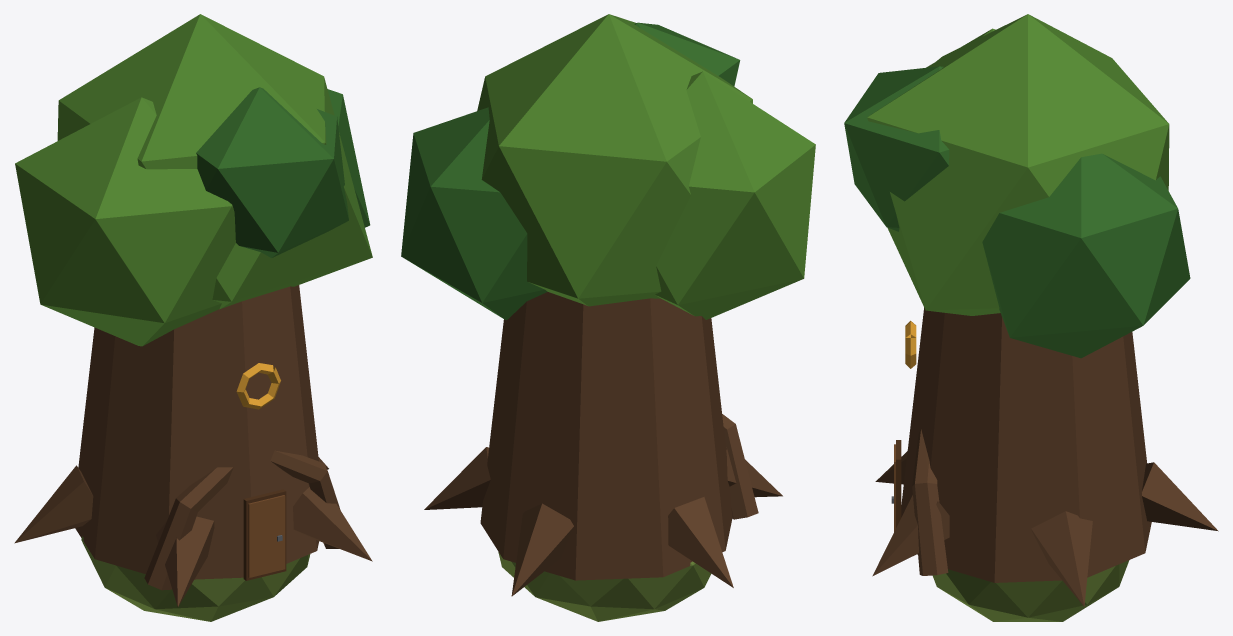
File: treekin_hall_broken.glb
The picture shows the model from 3 angles, left to right: view 1: azimuth 30°, elevation 25°; view 2: azimuth 150°, elevation 25°; view 3: azimuth 270°, elevation 25°; orthographic projection.
Visible parts, largest first — view 1: treekin_hall_piece4, treekin_hall_piece11, treekin_hall_piece10, treekin_hall_piece12, treekin_hall_piece1, treekin_hall_piece8, treekin_hall_piece7, treekin_hall_piece3, treekin_hall_piece6, treekin_hall_piece9, treekin_hall_piece5, treekin_hall_piece2; view 2: treekin_hall_piece5, treekin_hall_piece13, treekin_hall_piece7, treekin_hall_piece0, treekin_hall_piece3, treekin_hall_piece8, treekin_hall_piece12, treekin_hall_piece1, treekin_hall_piece11, treekin_hall_piece2, treekin_hall_piece4; view 3: treekin_hall_piece8, treekin_hall_piece6, treekin_hall_piece9, treekin_hall_piece13, treekin_hall_piece5, treekin_hall_piece0, treekin_hall_piece4, treekin_hall_piece10, treekin_hall_piece2, treekin_hall_piece12.
Part boxes in pixels (bbox=[...]): treekin_hall_piece4: bbox=[101, 252, 372, 621]; treekin_hall_piece11: bbox=[34, 129, 204, 427]; treekin_hall_piece10: bbox=[160, 103, 346, 423]; treekin_hall_piece12: bbox=[113, 39, 292, 276]; treekin_hall_piece1: bbox=[28, 106, 167, 558]; treekin_hall_piece8: bbox=[162, 14, 355, 293]; treekin_hall_piece7: bbox=[14, 327, 157, 612]; treekin_hall_piece3: bbox=[18, 67, 126, 547]; treekin_hall_piece6: bbox=[291, 235, 372, 581]; treekin_hall_piece9: bbox=[293, 111, 370, 340]; treekin_hall_piece5: bbox=[15, 78, 106, 374]; treekin_hall_piece2: bbox=[129, 37, 297, 342]; treekin_hall_piece5: bbox=[401, 95, 761, 385]; treekin_hall_piece13: bbox=[424, 415, 667, 621]; treekin_hall_piece7: bbox=[543, 284, 733, 606]; treekin_hall_piece0: bbox=[443, 266, 674, 614]; treekin_hall_piece3: bbox=[639, 96, 780, 534]; treekin_hall_piece8: bbox=[405, 14, 635, 210]; treekin_hall_piece12: bbox=[625, 19, 748, 108]; treekin_hall_piece1: bbox=[697, 87, 792, 545]; treekin_hall_piece11: bbox=[709, 91, 815, 380]; treekin_hall_piece2: bbox=[501, 53, 639, 357]; treekin_hall_piece4: bbox=[714, 362, 782, 546]; treekin_hall_piece8: bbox=[881, 14, 1126, 315]; treekin_hall_piece6: bbox=[886, 273, 1069, 621]; treekin_hall_piece9: bbox=[904, 241, 1118, 491]; treekin_hall_piece13: bbox=[1034, 395, 1218, 621]; treekin_hall_piece5: bbox=[1081, 46, 1186, 386]; treekin_hall_piece0: bbox=[1067, 257, 1190, 526]; treekin_hall_piece4: bbox=[872, 255, 973, 609]; treekin_hall_piece10: bbox=[844, 86, 923, 325]; treekin_hall_piece2: bbox=[939, 26, 1116, 399]; treekin_hall_piece12: bbox=[869, 22, 1083, 95].
Size of the model in its own units: 2.99 by 4.91 by 2.79.
